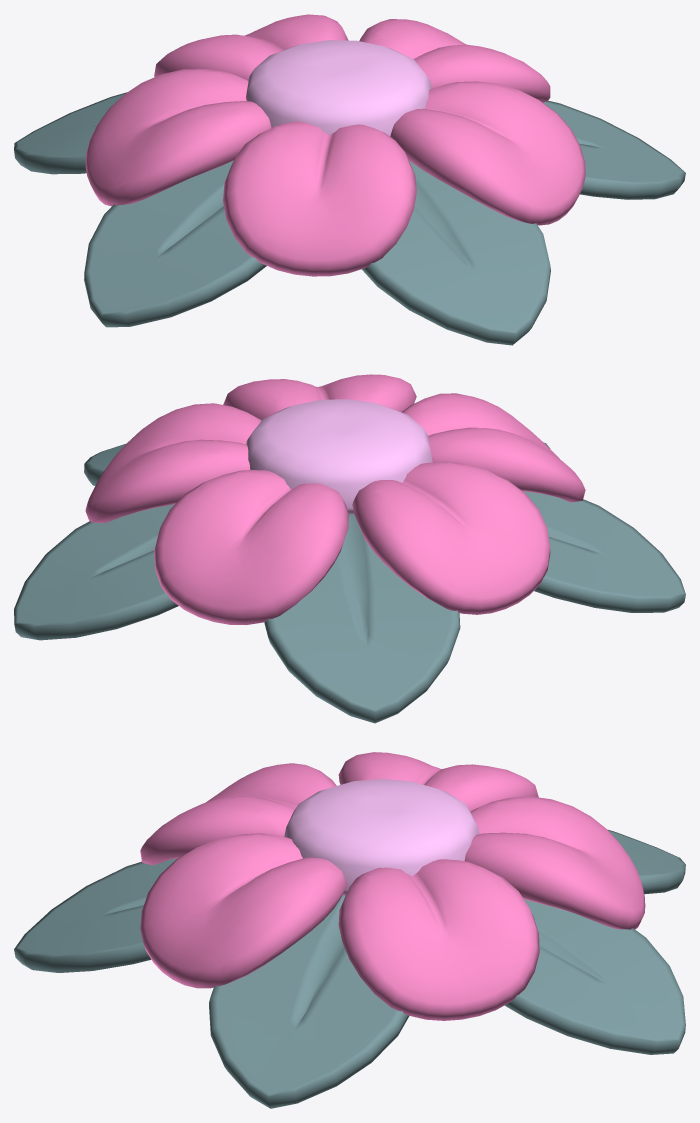
Rendered from SM_20070FlorChao.fbx.
The picture shows the model from 3 angles, top to bottom: view 1: azimuth 30°, elevation 25°; view 2: azimuth 150°, elevation 25°; view 3: azimuth 270°, elevation 25°; orthographic projection. The views are drawn at different scales.
Parts seen in each view (by area): view 1: SM_20070FlorChao_geo_1; view 2: SM_20070FlorChao_geo_1; view 3: SM_20070FlorChao_geo_1.
Part boxes in pixels (x1=…): SM_20070FlorChao_geo_1: x1=14, y1=14, x2=685, y2=345; SM_20070FlorChao_geo_1: x1=14, y1=374, x2=685, y2=723; SM_20070FlorChao_geo_1: x1=14, y1=752, x2=685, y2=1108.
Bounding box in the file's own units: 32.59 × 8.14 × 31.27.
